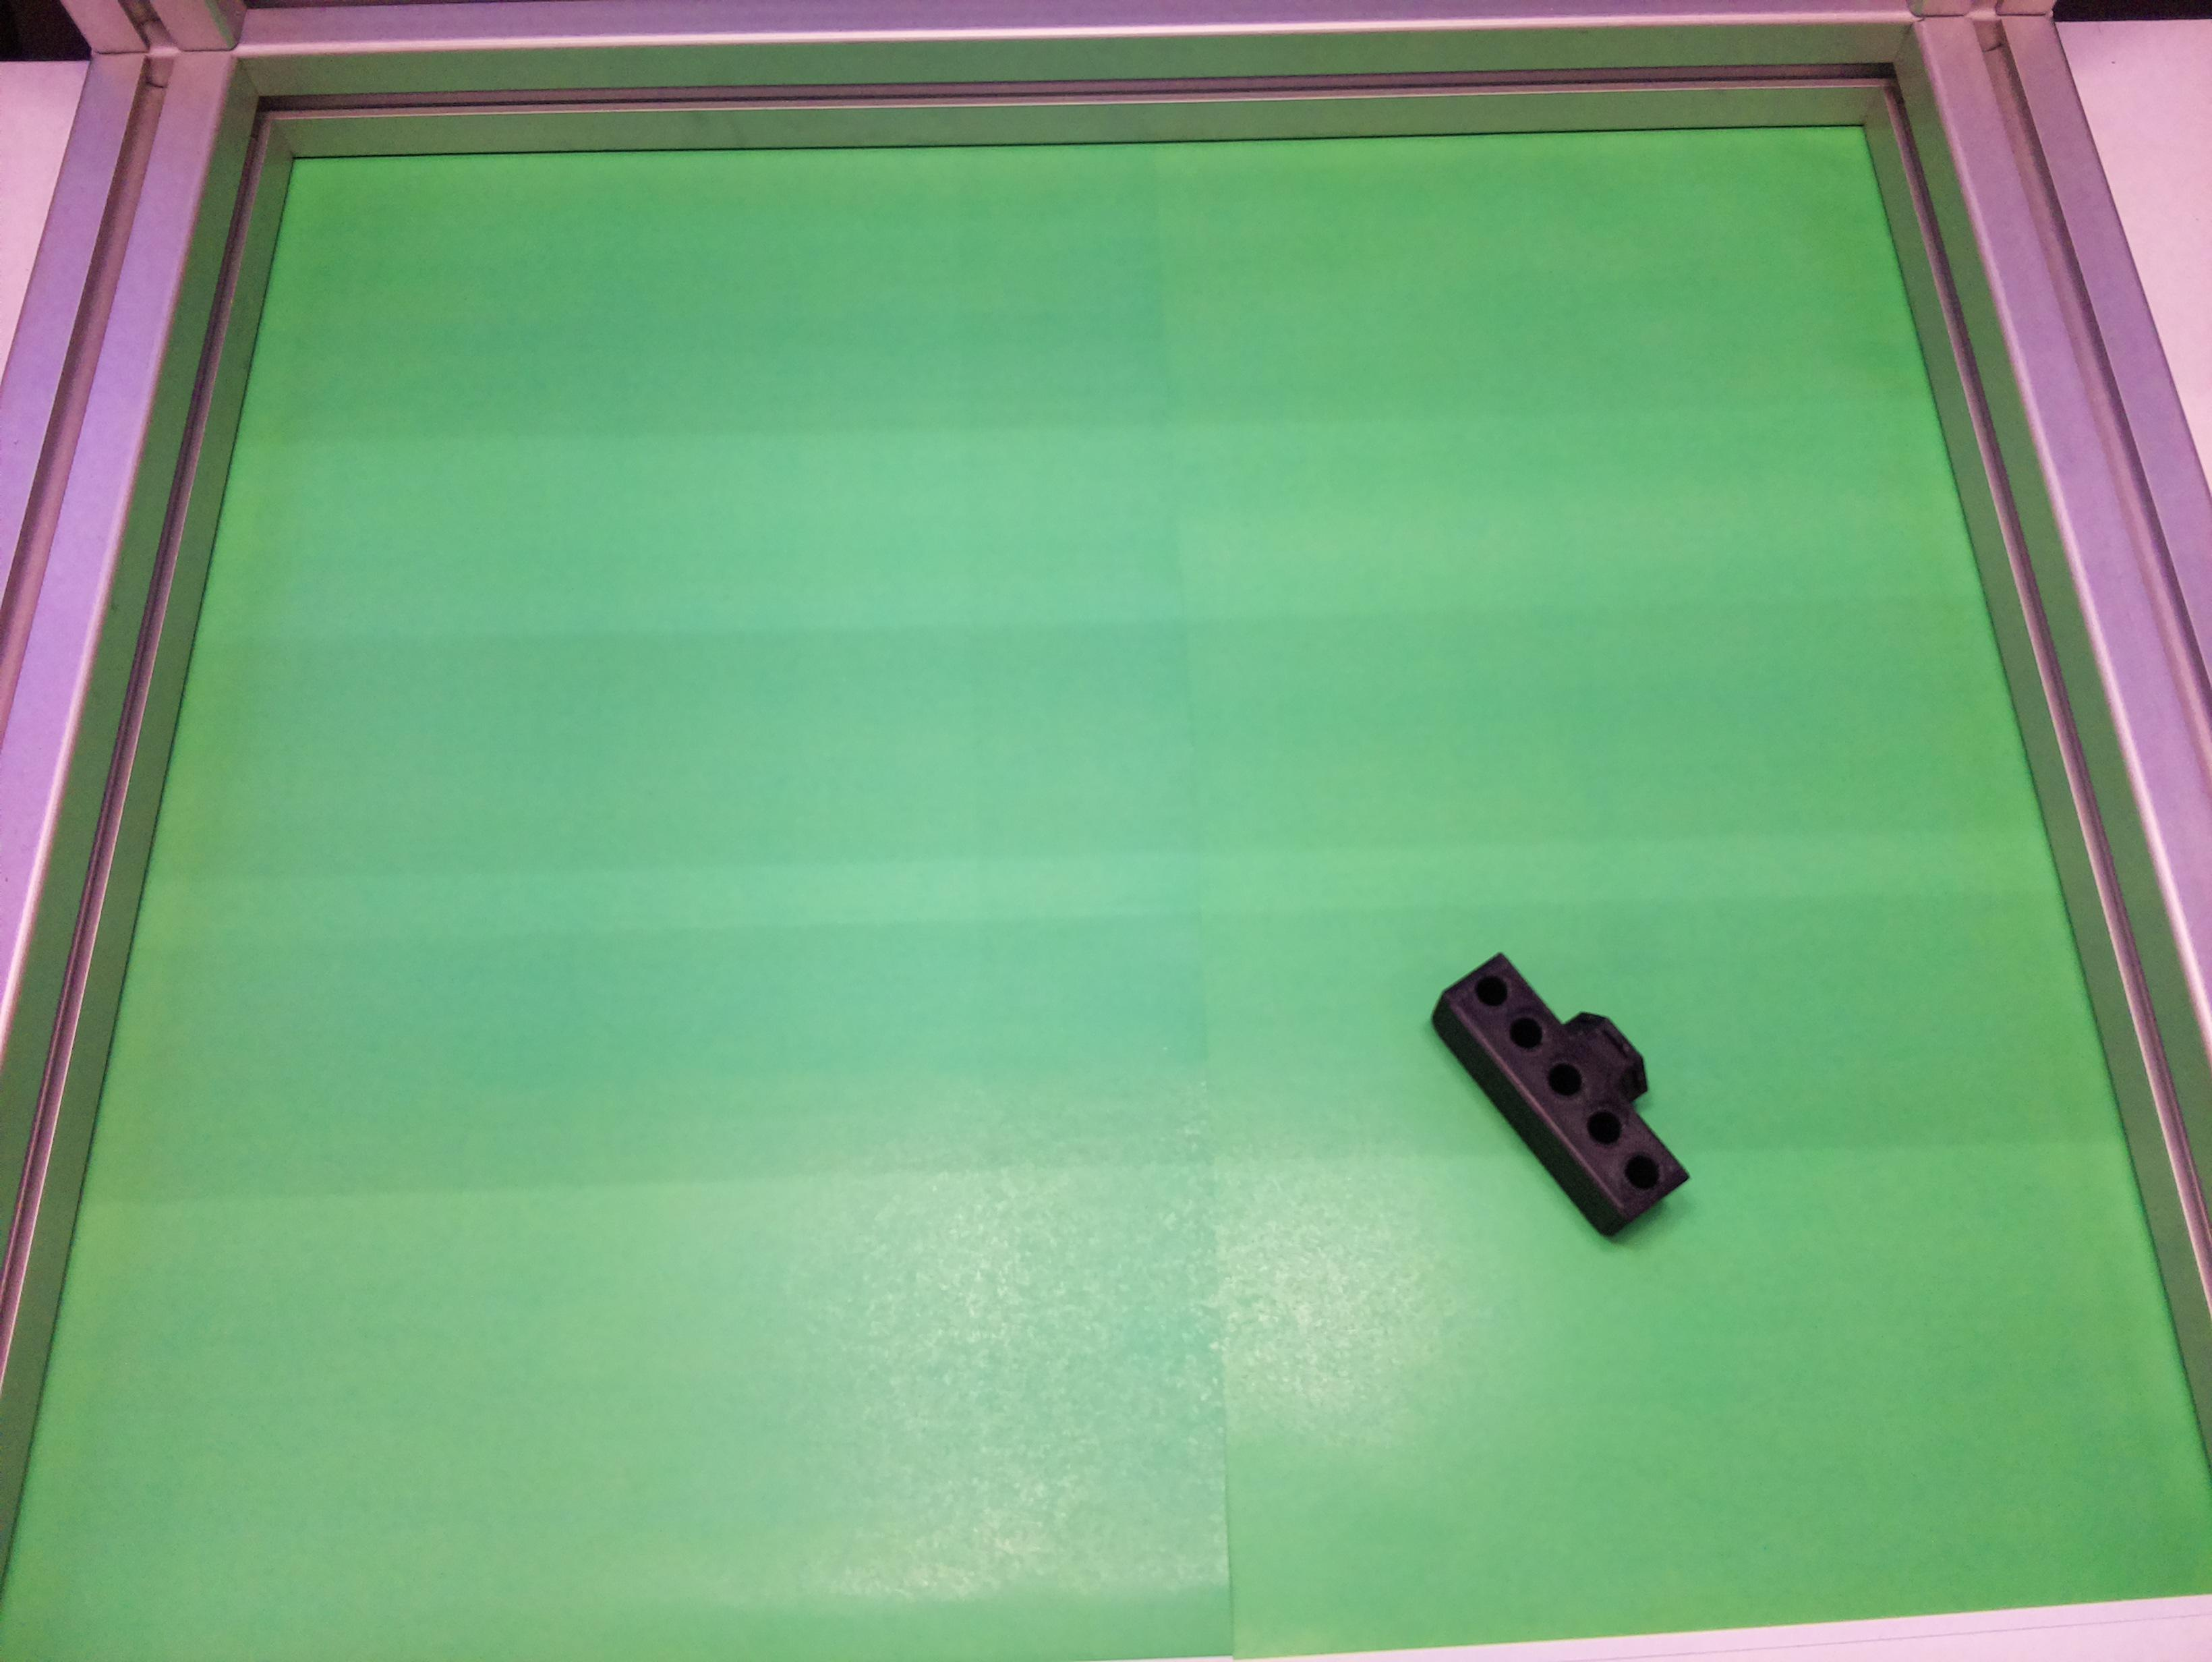bit_holder: (1418, 918, 1718, 1246)
